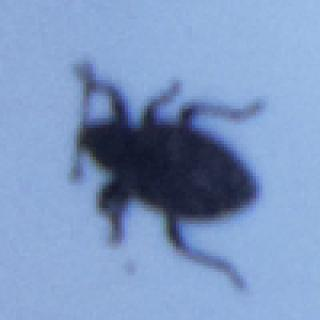bvw: (69, 57, 271, 296)
